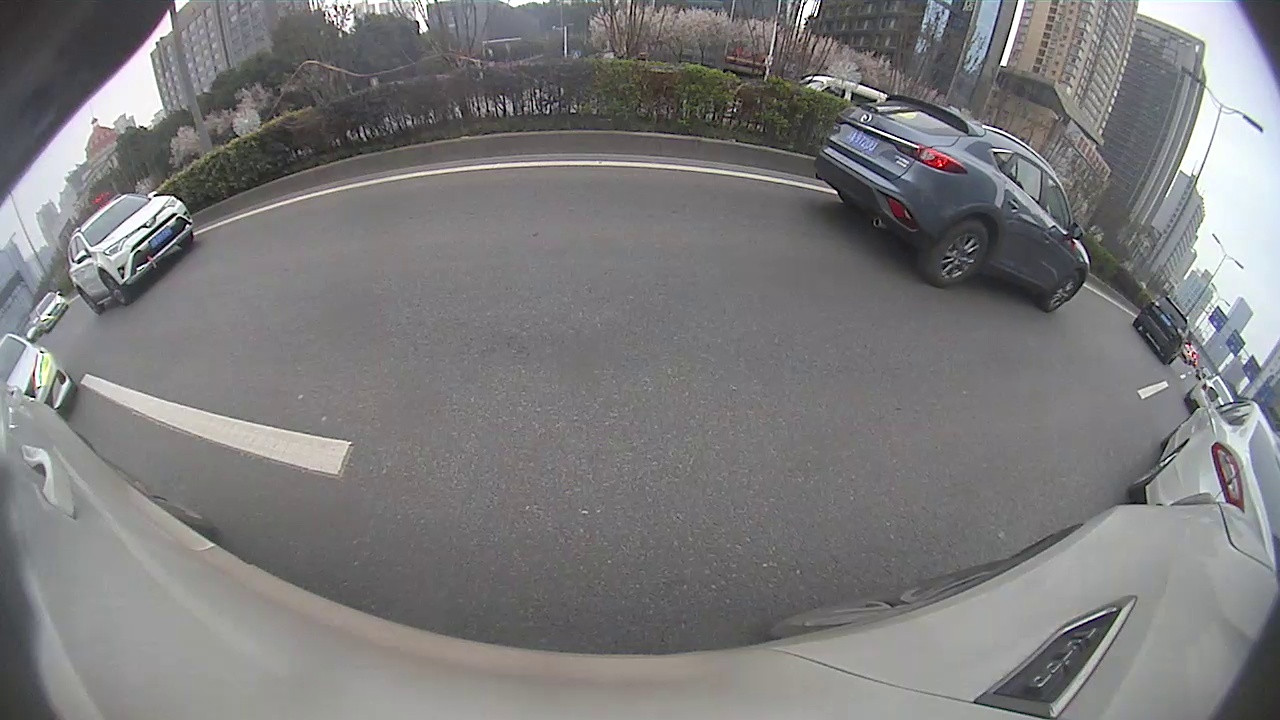car: (812, 93, 1092, 315), (1123, 385, 1278, 576), (63, 189, 198, 315), (1132, 295, 1194, 365)
front: (1044, 271, 1086, 310), (100, 270, 127, 307)
rear: (927, 219, 989, 287)
